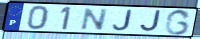0: (25, 5, 51, 31)
1: (59, 6, 72, 31)
G: (163, 9, 193, 36)
J: (139, 10, 162, 34), (111, 9, 134, 32)
N: (79, 7, 110, 32)
